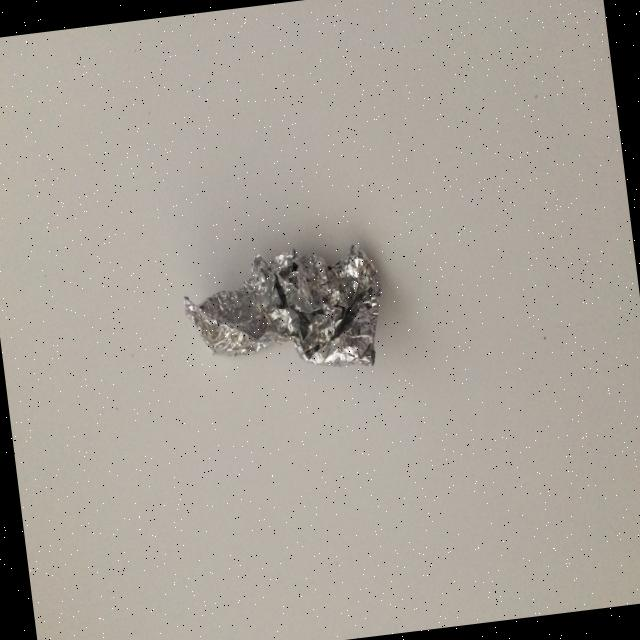metal: (178, 236, 390, 388)
